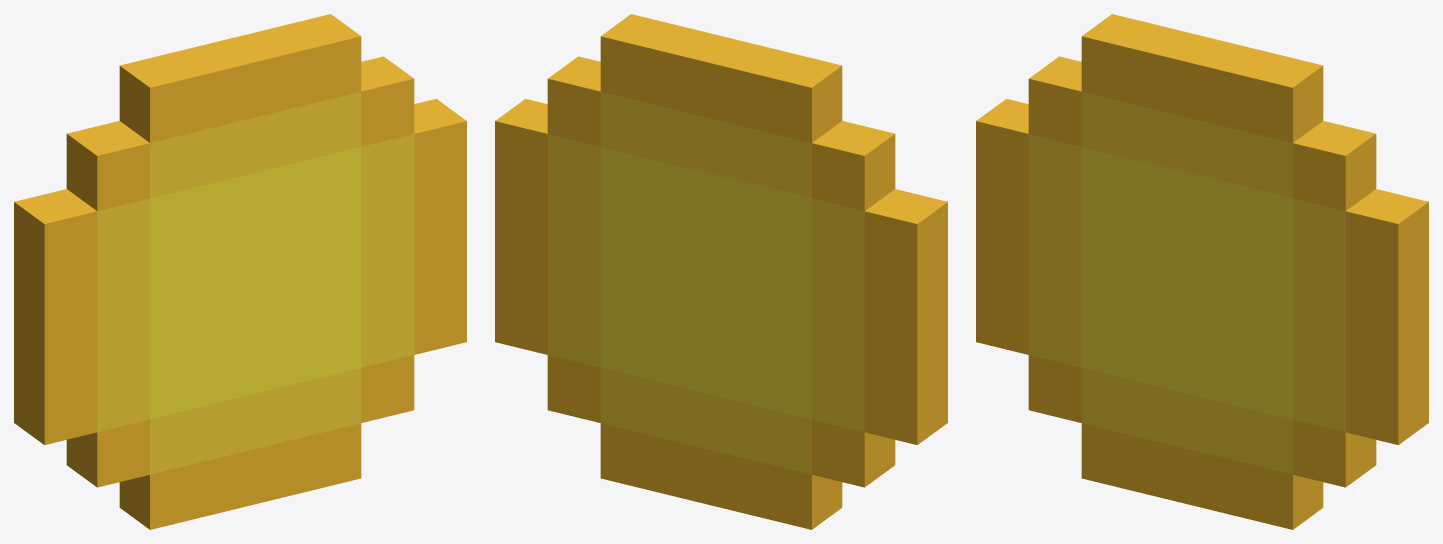
File: coin.obj
The picture shows the model from 3 angles, left to right: view 1: azimuth 30°, elevation 25°; view 2: azimuth 150°, elevation 25°; view 3: azimuth 330°, elevation 25°; orthographic projection.
Bounding box in the file's own units: 8 × 8 × 1.
Materials: 1 (1 with a texture image).
